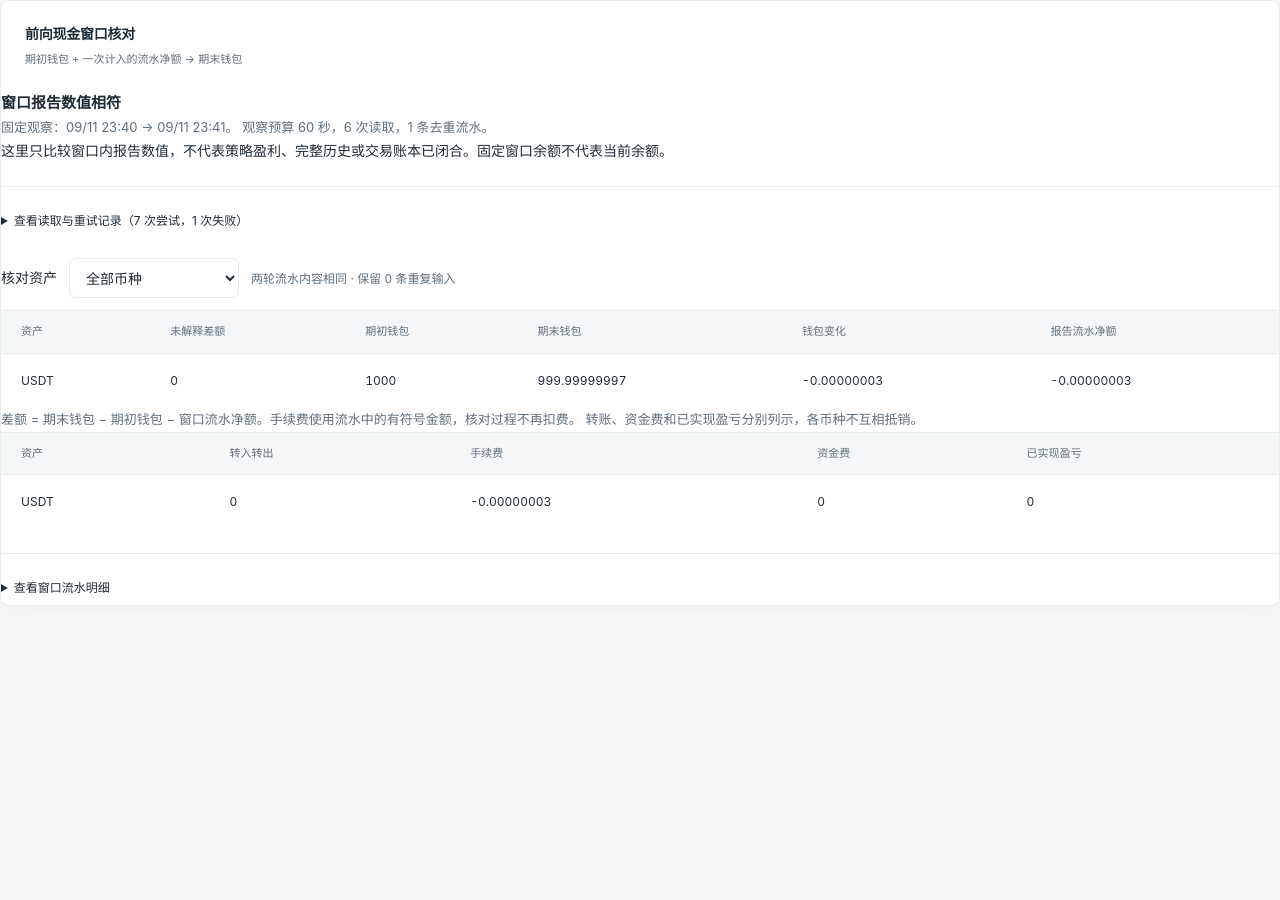
Test: keeps recovered failures visible without classifying matching cash as profit
Expected: the heading "窗口报告数值相符" is shown, [1,93,121,112]
Click the heading "查看读取与重试记录（7 次尝试，1 次失败）" at (131, 221), box [14,213,248,228]
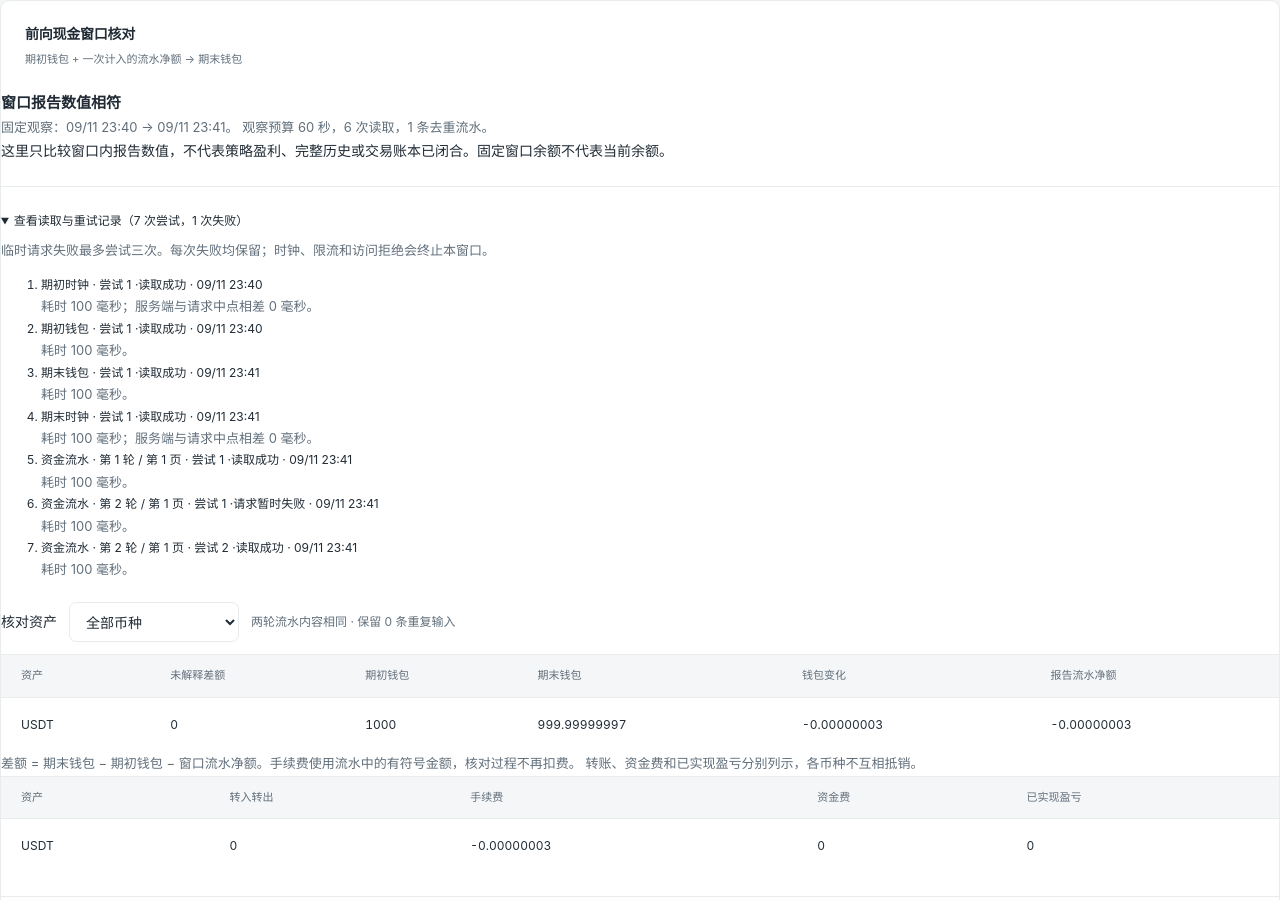
Expected: the list item "资金流水 · 第 2 轮 / 第 1 页 · 尝试 1 ·请求暂时失败 · 09/11 23:41 耗时 100 毫秒。" is shown, [41,496,379,534]
Expected: the list item "资金流水 · 第 2 轮 / 第 1 页 · 尝试 2 ·读取成功 · 09/11 23:41 耗时 100 毫秒。" is shown, [41,540,357,577]
